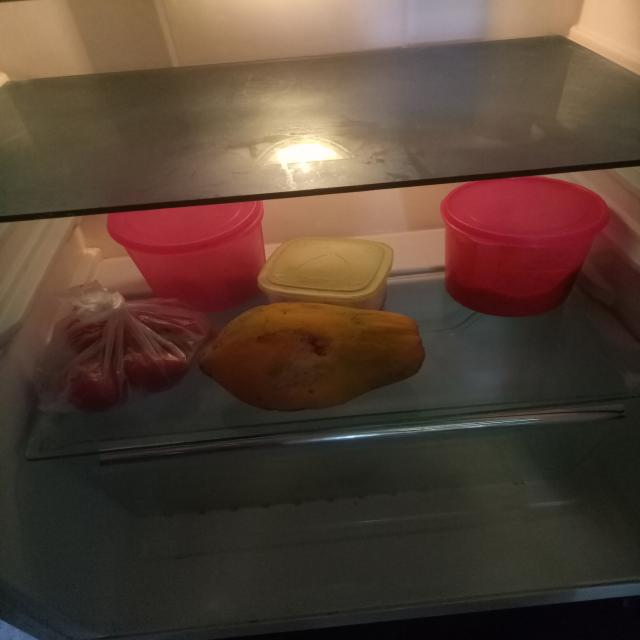Pepaya rippen: (201, 308, 431, 408)
